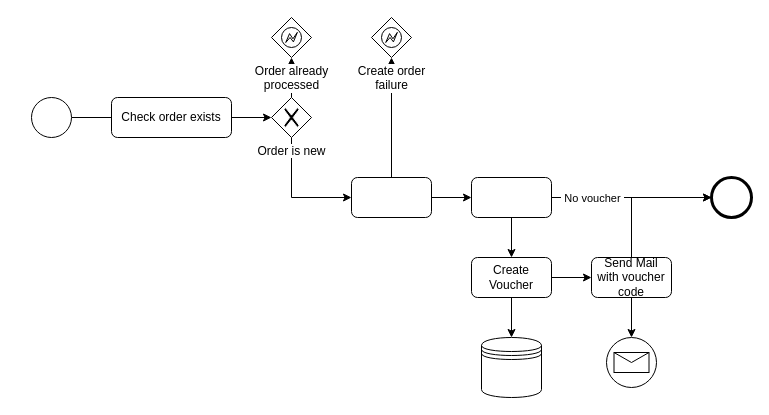
Image size: 769x415. Some labels were removed from this diagram. Here are the shapes that lost their labels. From the top down, the centre of each, then its label:
the point at 51,117: Order placed
the point at 391,197: Create order
the point at 511,197: Check order Amount is >= 100€
